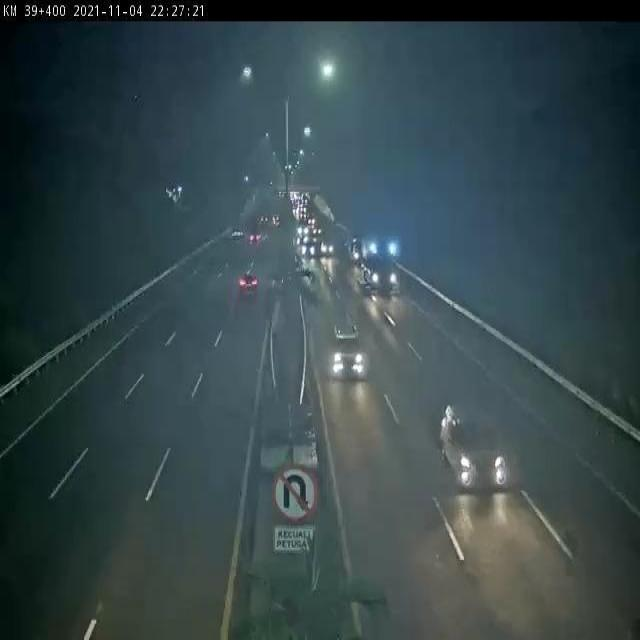ARABA: (440, 400, 506, 487), (330, 321, 363, 376), (238, 271, 258, 297)
KAMYONET: (357, 235, 397, 293)
